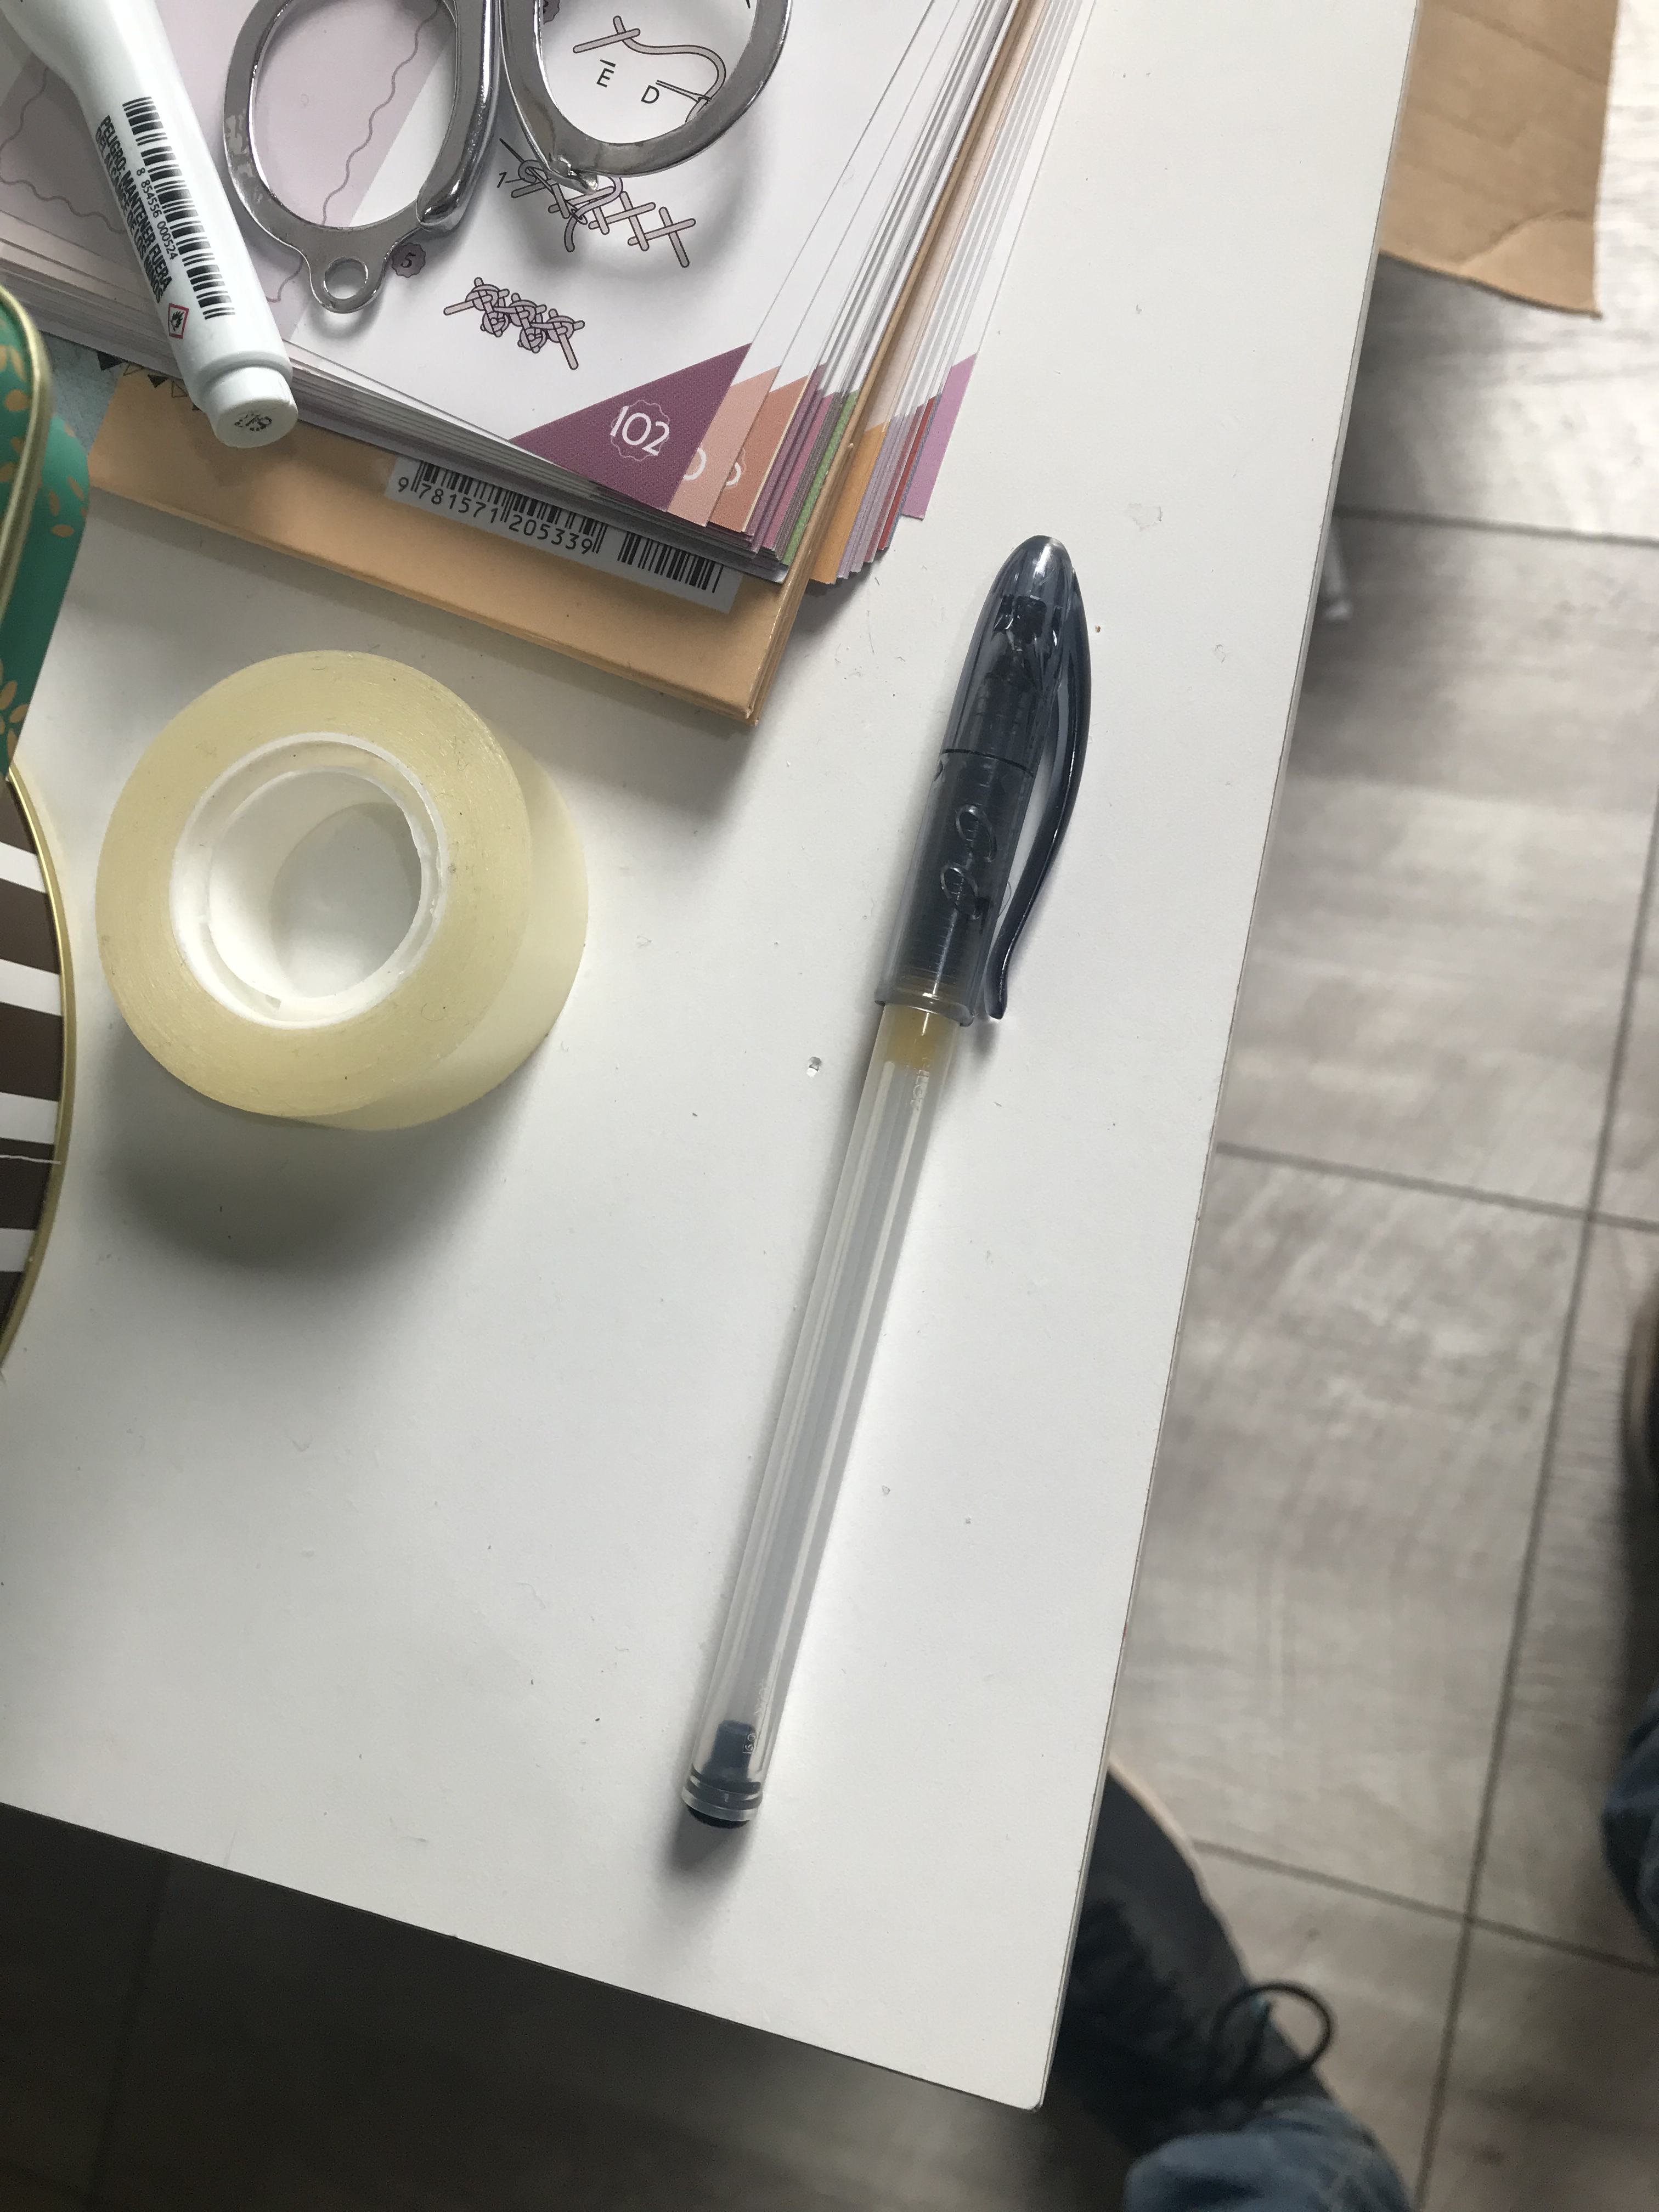lapiz: (666, 514, 1105, 1853)
